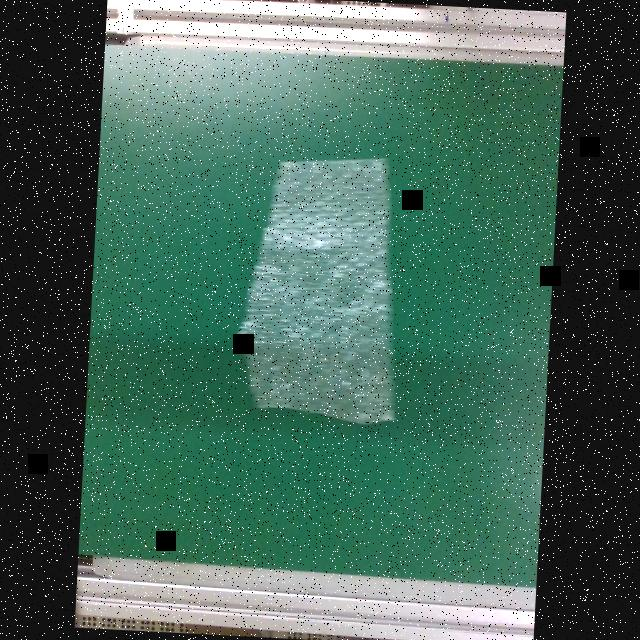scrap_plastic: (230, 148, 410, 424)
